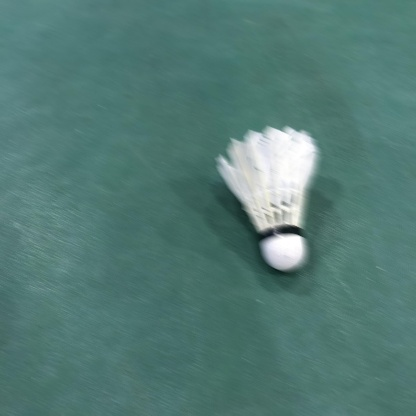ball_single: (219, 127, 319, 272)
